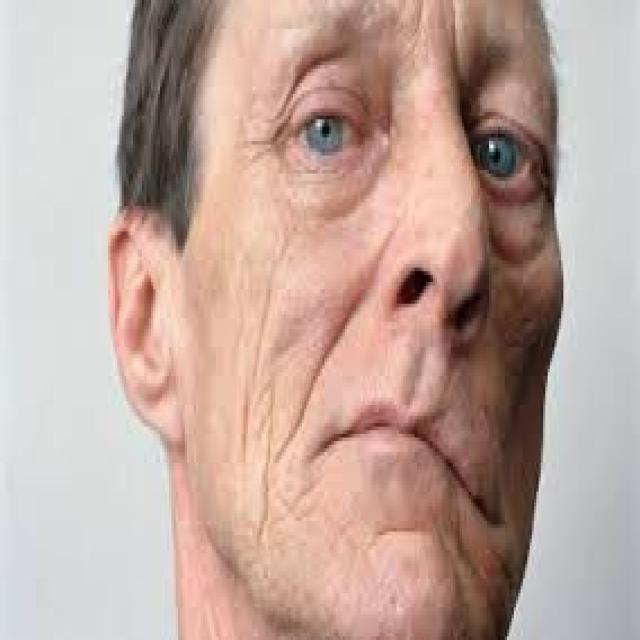stroke_face: (207, 4, 559, 640)
